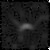node: (18, 22, 35, 31)
